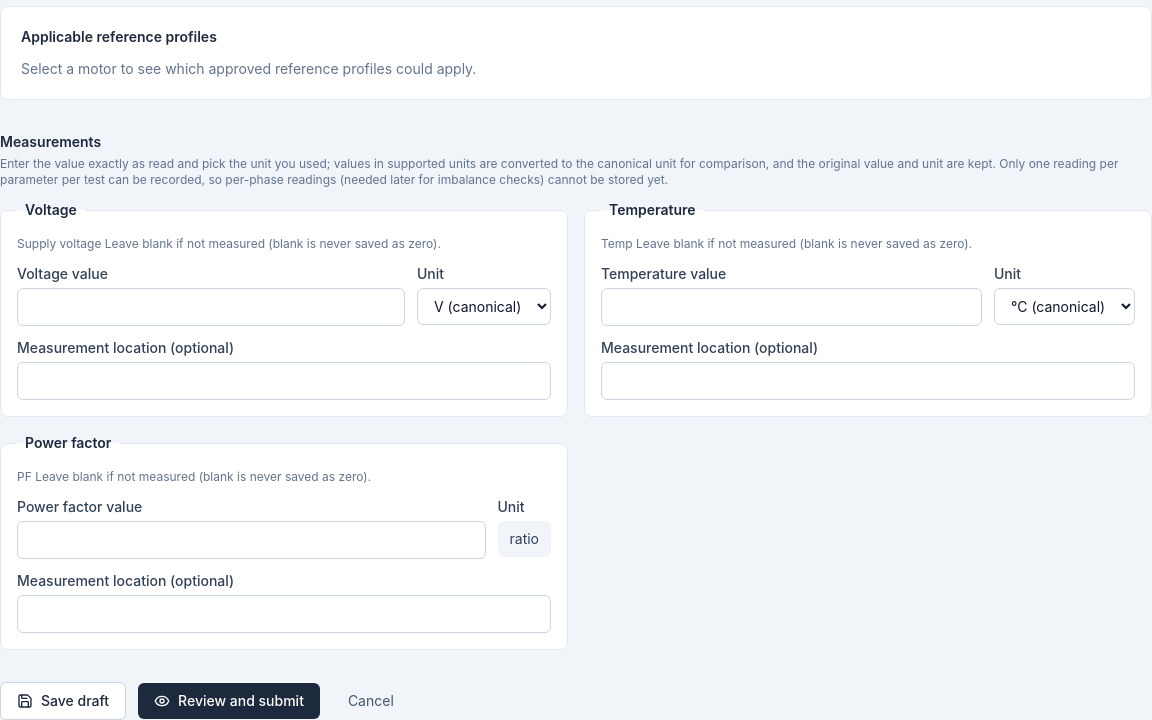
Test: TestEditor — validation › will not save without a motor
(page scrolled)
Click the button "Save draft" at (63, 701), box top-left (0, 682), bottom-right (126, 719)
(page scrolled)
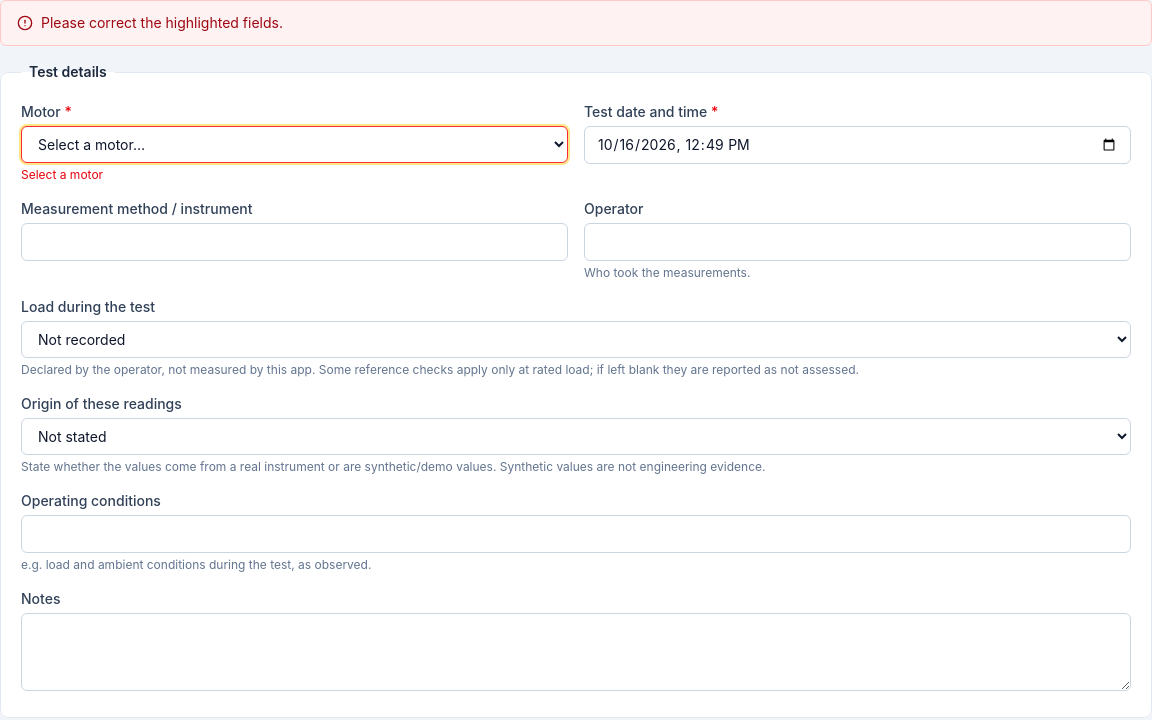
Expected: the text "Select a motor" is shown, top-left (21, 167), bottom-right (103, 182)
